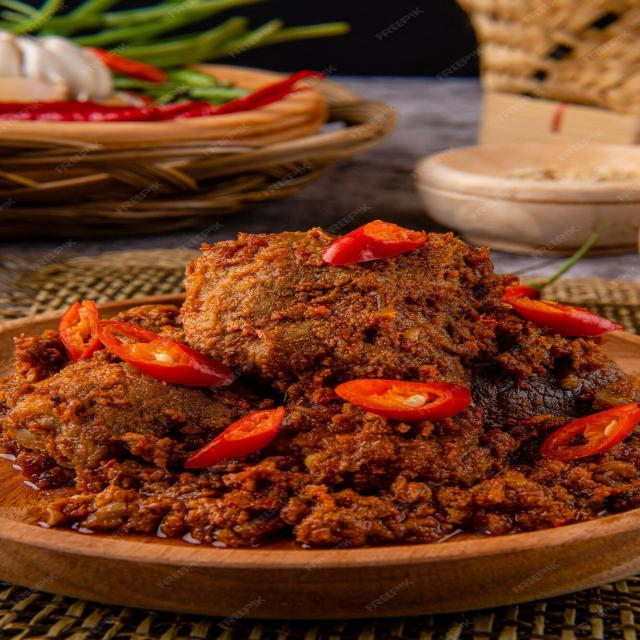Rendang: (5, 220, 640, 558)
